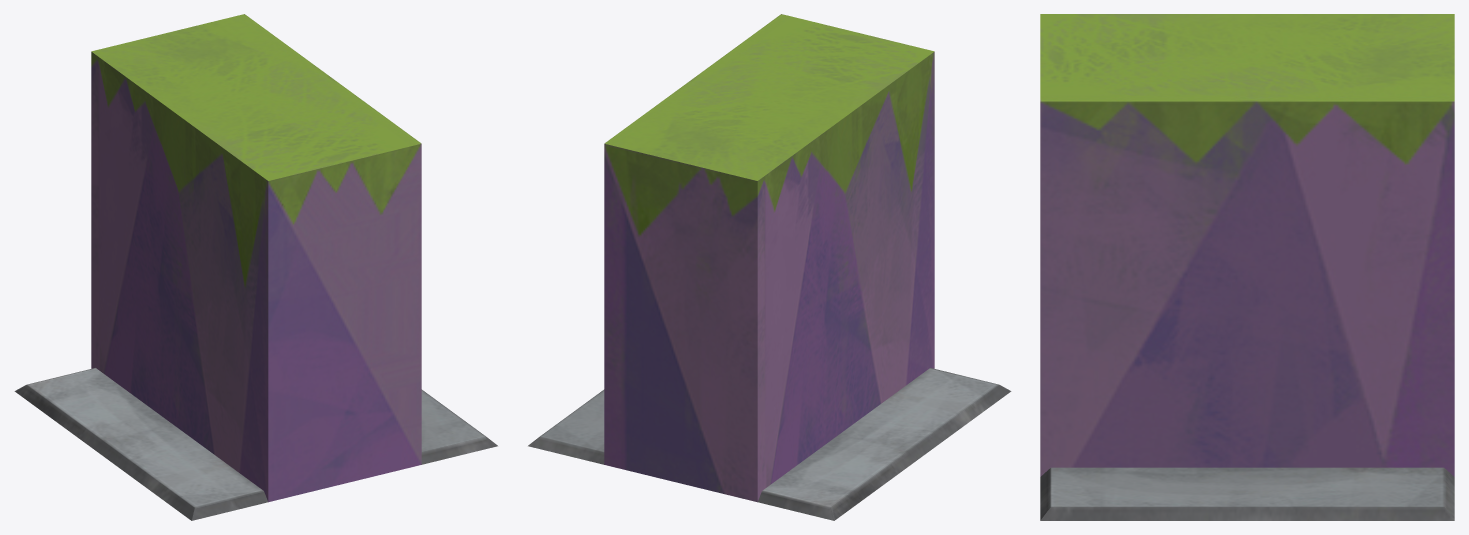
File: half_wall_cap.fbx
The picture shows the model from 3 angles, left to right: view 1: azimuth 30°, elevation 25°; view 2: azimuth 150°, elevation 25°; view 3: azimuth 270°, elevation 25°; orthographic projection. The views are drawn at different scales.
Visible parts, largest first — view 1: half_wall_cap; view 2: half_wall_cap; view 3: half_wall_cap.
Part boxes in pixels (bbox=[...]): half_wall_cap: bbox=[14, 14, 497, 520]; half_wall_cap: bbox=[528, 14, 1011, 520]; half_wall_cap: bbox=[1040, 14, 1454, 520].
Bounding box in the file's own units: 0.02 × 0.02 × 0.02.
